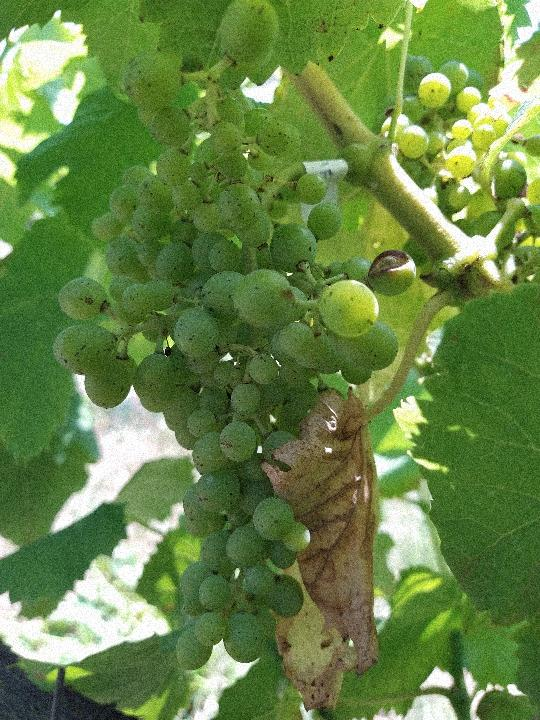grape: (50, 3, 421, 675)
